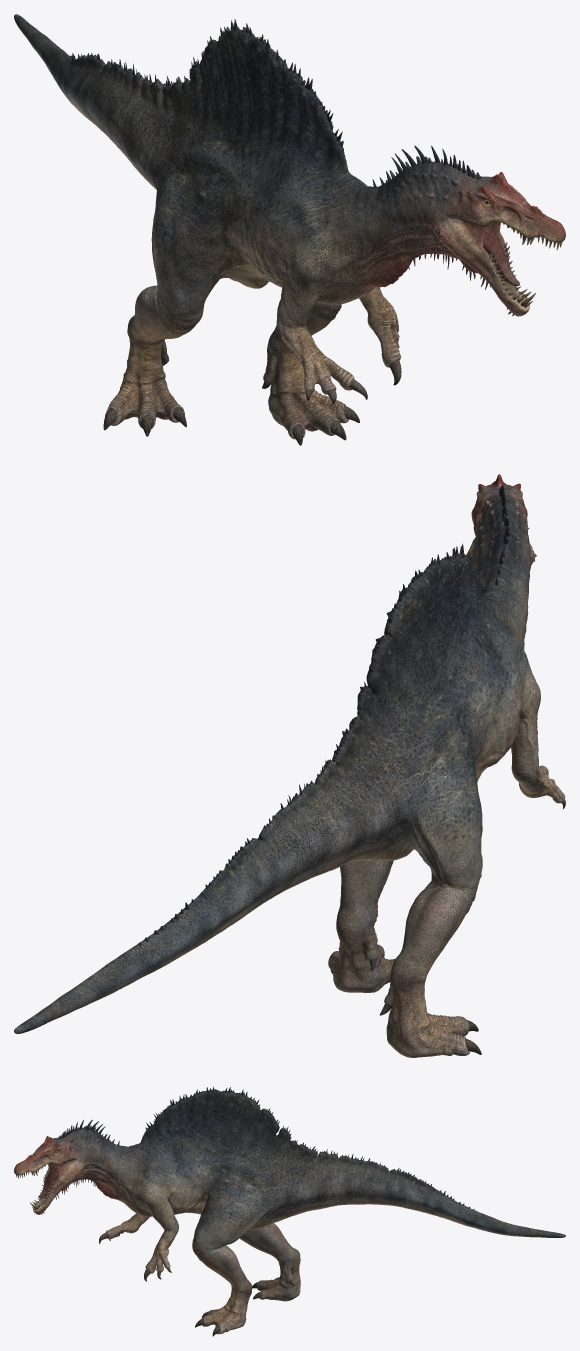
The model's file is spinosaurus-transformed.glb.
3 renders of one model, top to bottom at view 1: azimuth 30°, elevation 25°; view 2: azimuth 150°, elevation 25°; view 3: azimuth 270°, elevation 25°, orthographic. The views are drawn at different scales.
Parts seen in each view (by area): view 1: spino_v02_printable; view 2: spino_v02_printable; view 3: spino_v02_printable.
Part boxes in pixels (<box>): spino_v02_printable: <box>14,14,565,445</box>; spino_v02_printable: <box>14,474,565,1057</box>; spino_v02_printable: <box>14,1086,565,1336</box>.
Bounding box in the file's own units: 3.18 × 5.59 × 12.36.
1 material, 1 textured.
